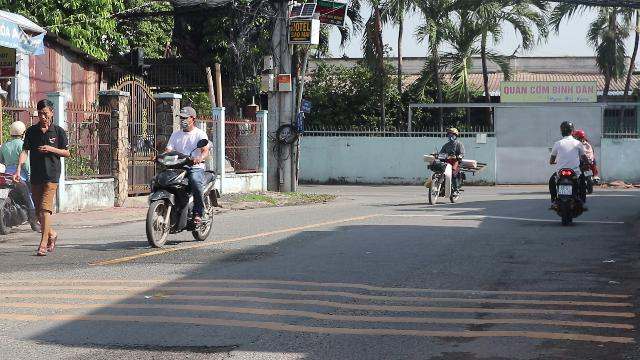motorcyclist: (142, 105, 220, 249)
nohelmet: (176, 106, 197, 130)
